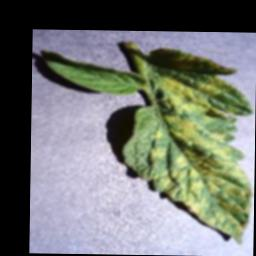Leaf_Mold: (122, 47, 255, 246)
